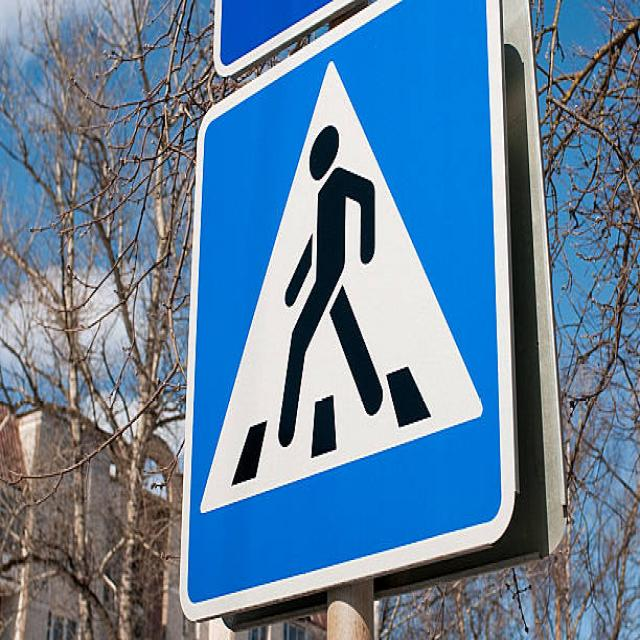crosswalk: (162, 2, 522, 618)
